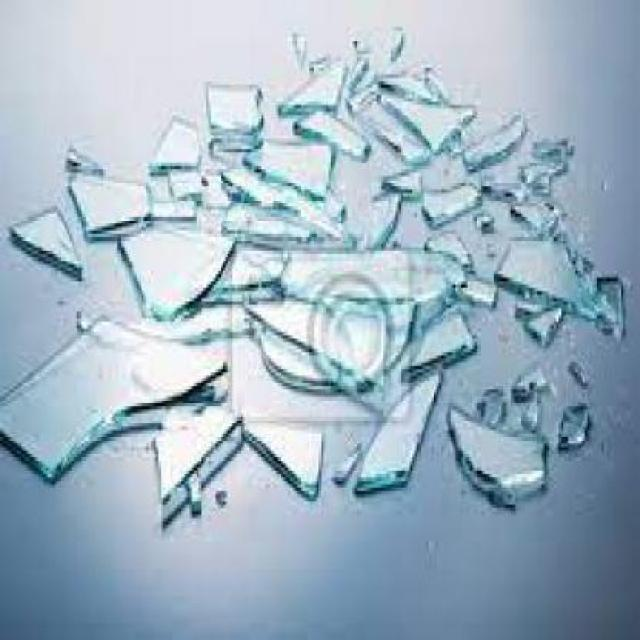kaca: (0, 315, 231, 474), (240, 302, 412, 409), (278, 243, 464, 319), (111, 217, 231, 318), (351, 366, 438, 494), (446, 397, 546, 508), (225, 160, 343, 242), (497, 234, 605, 318), (151, 406, 235, 511), (240, 414, 323, 498), (254, 322, 351, 392), (4, 197, 82, 278), (63, 166, 151, 237), (377, 91, 477, 149), (243, 135, 329, 200), (400, 302, 475, 372), (206, 237, 288, 298), (357, 102, 426, 163), (218, 200, 314, 243), (463, 108, 529, 166), (206, 75, 263, 140), (138, 112, 197, 170), (278, 56, 340, 110), (575, 264, 620, 338), (296, 112, 364, 160), (343, 186, 395, 245), (377, 65, 441, 112), (508, 193, 566, 244), (132, 309, 211, 343), (417, 172, 475, 217), (186, 291, 240, 338), (530, 129, 576, 177), (554, 220, 588, 282), (420, 231, 469, 271), (555, 400, 588, 451), (452, 264, 494, 302), (520, 298, 557, 338), (205, 126, 248, 160), (476, 169, 524, 197), (474, 386, 506, 426), (150, 194, 198, 220), (511, 363, 551, 394), (377, 163, 417, 194), (331, 440, 360, 482), (520, 152, 545, 197), (166, 166, 209, 192), (63, 142, 102, 169), (348, 50, 378, 84), (512, 288, 545, 315), (323, 175, 343, 217), (185, 468, 203, 508), (566, 349, 585, 383), (516, 389, 530, 431), (382, 24, 398, 56), (72, 308, 90, 332), (291, 24, 303, 59), (475, 203, 488, 228), (346, 88, 356, 112), (482, 240, 489, 251)
